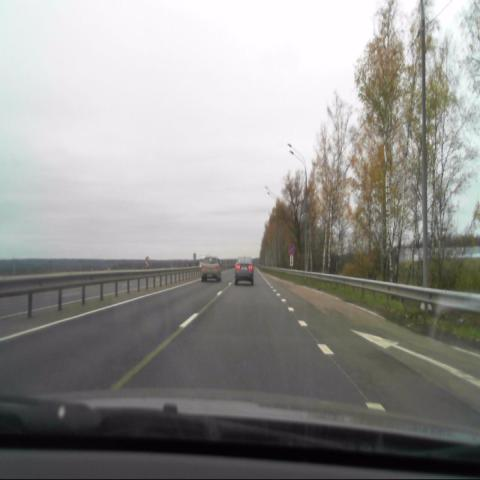3_27: (287, 241, 295, 255)
